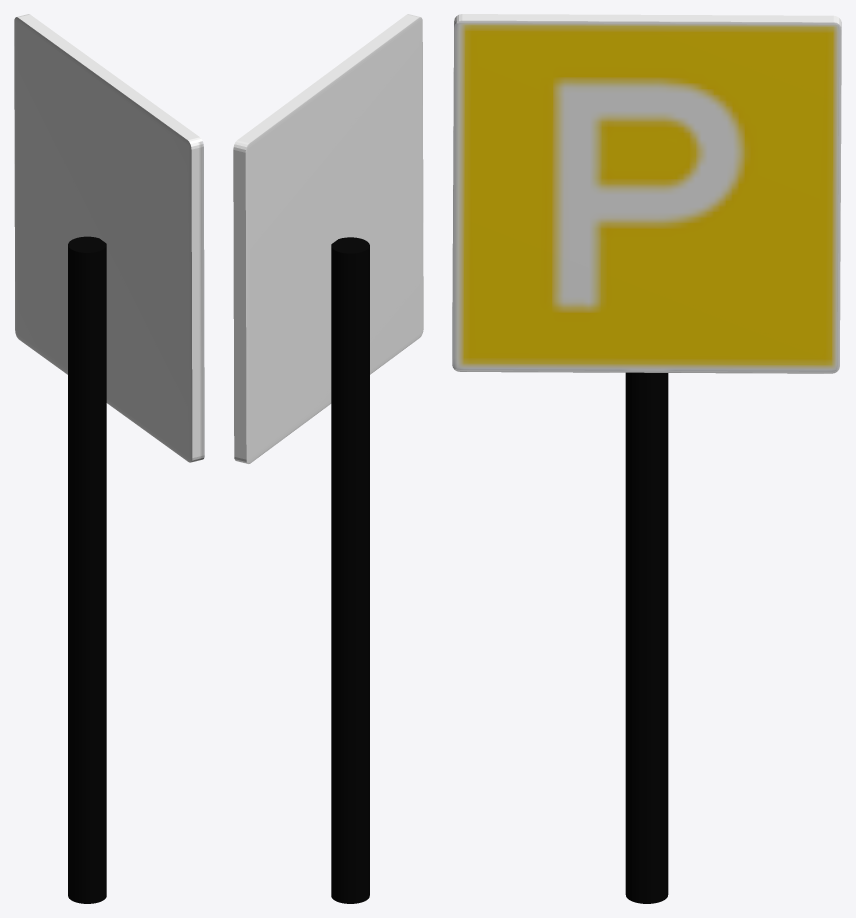
The model's file is Sign_Park_Yellow.fbx.
3 views of the same model, side by side, from view 1: azimuth 30°, elevation 25°; view 2: azimuth 150°, elevation 25°; view 3: azimuth 270°, elevation 25° (orthographic). The views are drawn at different scales.
Parts seen in each view (by area): view 1: Sign_Park, Pole_Park; view 2: Sign_Park, Pole_Park; view 3: Sign_Park, Pole_Park.
Part boxes in pixels (bbox=[...]): Sign_Park: bbox=[14, 14, 204, 462]; Pole_Park: bbox=[68, 236, 106, 903]; Sign_Park: bbox=[233, 14, 423, 463]; Pole_Park: bbox=[331, 237, 369, 903]; Sign_Park: bbox=[452, 14, 841, 373]; Pole_Park: bbox=[625, 372, 668, 903].
Size of the model in its own units: 6.49 by 111 by 44.22.
